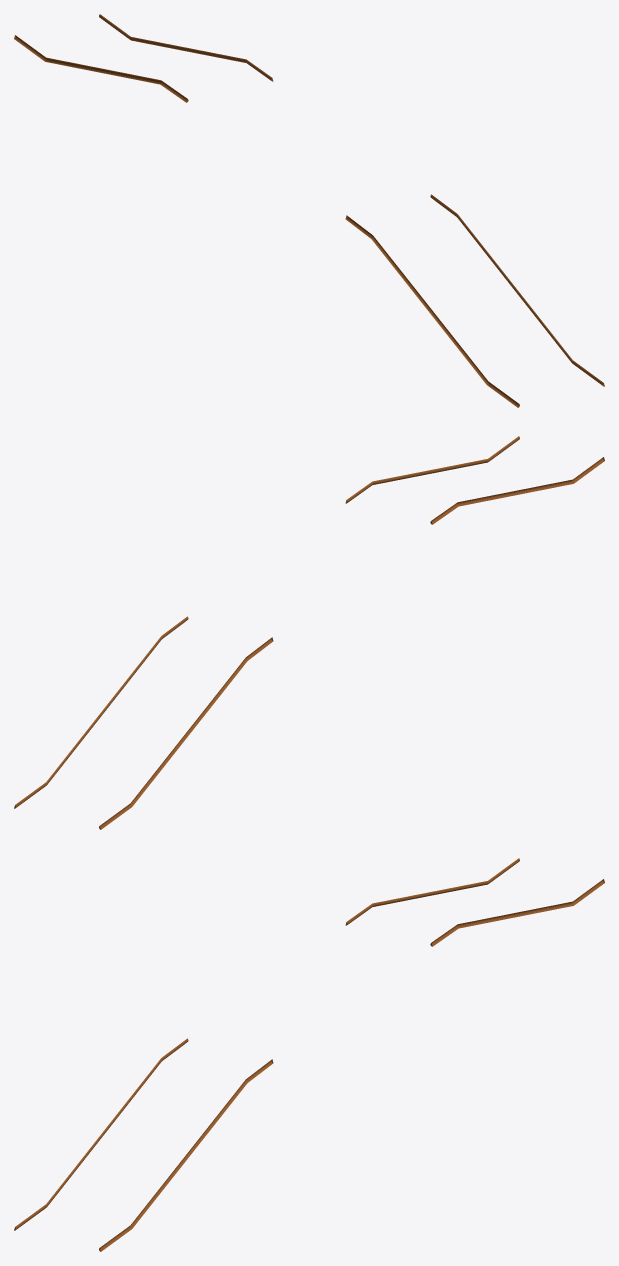
Rendered from 12_Zoclo_02.fbx.
3 renders of one model, top to bottom at view 1: azimuth 30°, elevation 25°; view 2: azimuth 150°, elevation 25°; view 3: azimuth 330°, elevation 25°, orthographic.
Visible parts, largest first — view 1: Zoclo_02; view 2: Zoclo_02; view 3: Zoclo_02.
Part boxes in pixels (x1,y1,x2,y2): Zoclo_02: (14,14,604,407); Zoclo_02: (14,436,604,829); Zoclo_02: (14,858,604,1251).
Bounding box in the file's own units: 1314 × 954 × 13125.
